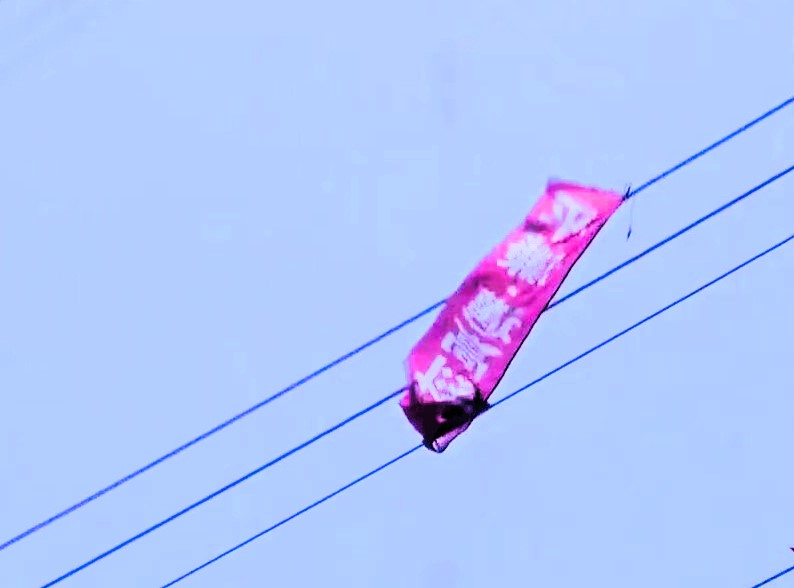wire foreign body: (394, 156, 646, 464)
